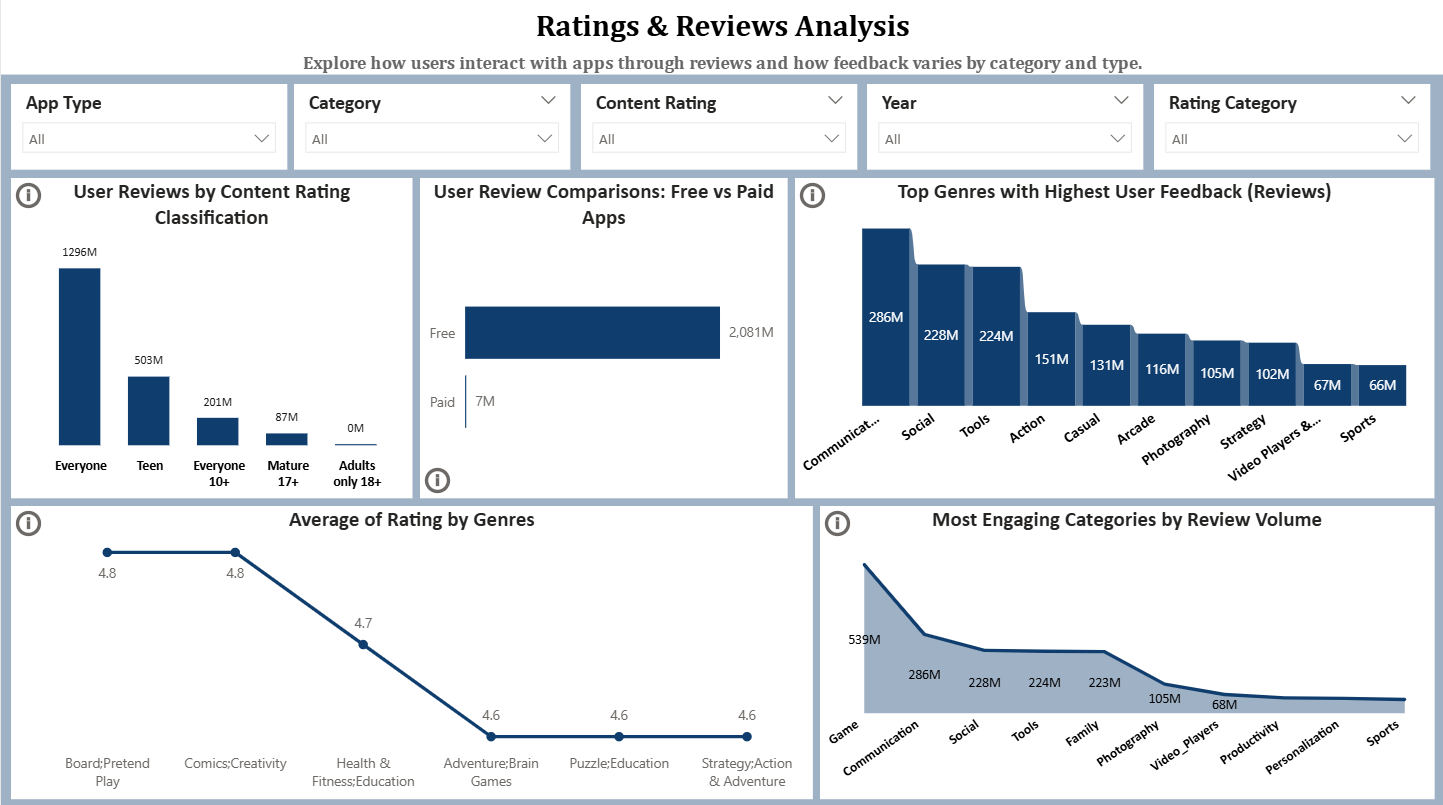

Layout of this report page (visuals, bound fields, positions):
{"tool":"powerbi","page":{"name":"Ratings & Reviews Analysis","canvas":[1280,720],"ordinal":2},"visuals":[{"type":"stackedAreaChart","title":"Most Engaging Categories by Review Volume","fields":{"Category":["googleplaystore_cleaned.Category"],"Y":["Sum(googleplaystore_cleaned.Reviews)"]},"box":[726.6,453.3,544.7,259.7],"z":0},{"type":"lineStackedColumnComboChart","title":"User Reviews by Content Rating Classification","fields":{"Category":["googleplaystore_cleaned.Content_Rating"],"Y":["Sum(googleplaystore_cleaned.Reviews)"]},"box":[8.8,162.4,356,284],"z":1000},{"type":"barChart","title":"User Review Comparisons: Free vs Paid Apps","fields":{"Category":["googleplaystore_cleaned.Type"],"Y":["Sum(googleplaystore_cleaned.Reviews)"]},"box":[371.6,162.4,325.8,284],"z":2000},{"type":"ribbonChart","title":"Top Genres with Highest User Feedback (Reviews)","fields":{"Category":["googleplaystore_cleaned.Genres"],"Y":["Sum(googleplaystore_cleaned.Reviews)"]},"box":[704.2,162.4,567.1,284],"z":3000},{"type":"shape","title":"App Availability Overview","box":[0,0,1280,50.6],"z":4000},{"type":"shape","box":[0,50.6,1280,20.4],"z":5000},{"type":"lineChart","fields":{"Category":["googleplaystore_cleaned.Genres"],"Y":["Avg(googleplaystore_cleaned.Rating)"]},"box":[8.8,453.3,711,259.7],"z":6000},{"type":"slicer","fields":{"Values":["googleplaystore_cleaned.Type"]},"box":[8.8,78.8,245.1,75.9],"z":7000},{"type":"slicer","fields":{"Values":["googleplaystore_cleaned.Category"]},"box":[259.9,78.8,245.1,75.9],"z":8000},{"type":"slicer","fields":{"Values":["googleplaystore_cleaned.Content_Rating"]},"box":[514,78.8,245.1,75.9],"z":9000},{"type":"slicer","fields":{"Values":["googleplaystore_cleaned.Last_Updated.Variation.Date Hierarchy.Year"]},"box":[768.1,78.8,245.1,75.9],"z":10000},{"type":"slicer","fields":{"Values":["googleplaystore_cleaned.Rating Category"]},"box":[1022.2,78.8,245.1,75.9],"z":11000},{"type":"actionButton","box":[8.9,162.3,32.8,31],"z":12000},{"type":"actionButton","box":[371.5,415,31.9,31],"z":13000},{"type":"actionButton","box":[704,162.3,31.9,31],"z":14000},{"type":"actionButton","box":[8.9,453.1,31.9,31],"z":15000},{"type":"actionButton","box":[726.2,453.1,31.9,31],"z":16000}]}

Visuals, with their boxes in screenshot pixels (x1, y1, x2, y2), scaled from the page's 1280x720 canvas onto the 1443x805 screenshot:
"Most Engaging Categories by Review Volume" stackedAreaChart: BBox(819, 507, 1433, 797)
"User Reviews by Content Rating Classification" lineStackedColumnComboChart: BBox(10, 182, 411, 499)
"User Review Comparisons: Free vs Paid Apps" barChart: BBox(419, 182, 786, 499)
"Top Genres with Highest User Feedback (Reviews)" ribbonChart: BBox(794, 182, 1433, 499)
"App Availability Overview" shape: BBox(0, 0, 1442, 57)
shape: BBox(0, 57, 1442, 79)
lineChart - googleplaystore_cleaned.Genres x Avg(googleplaystore_cleaned.Rating): BBox(10, 507, 811, 797)
slicer - googleplaystore_cleaned.Type: BBox(10, 88, 286, 173)
slicer - googleplaystore_cleaned.Category: BBox(293, 88, 569, 173)
slicer - googleplaystore_cleaned.Content_Rating: BBox(579, 88, 856, 173)
slicer - googleplaystore_cleaned.Last_Updated.Variation.Date Hierarchy.Year: BBox(866, 88, 1142, 173)
slicer - googleplaystore_cleaned.Rating Category: BBox(1152, 88, 1429, 173)
actionButton: BBox(10, 181, 47, 216)
actionButton: BBox(419, 464, 455, 499)
actionButton: BBox(794, 181, 830, 216)
actionButton: BBox(10, 507, 46, 541)
actionButton: BBox(819, 507, 855, 541)
